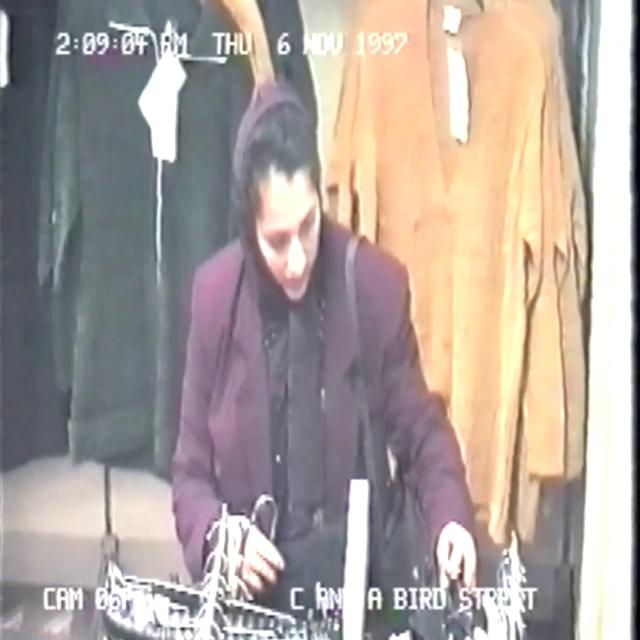Product: (235, 514, 334, 602)
shoplifting: (62, 0, 533, 640)
